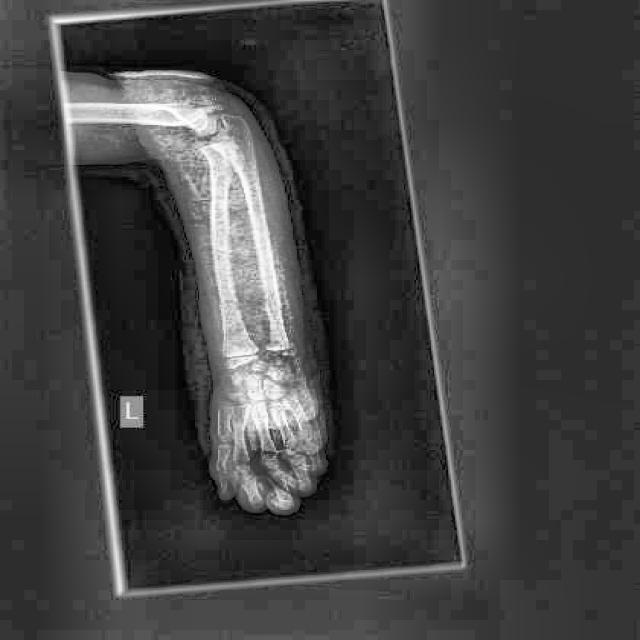forearm fracture: (208, 275, 260, 331)
